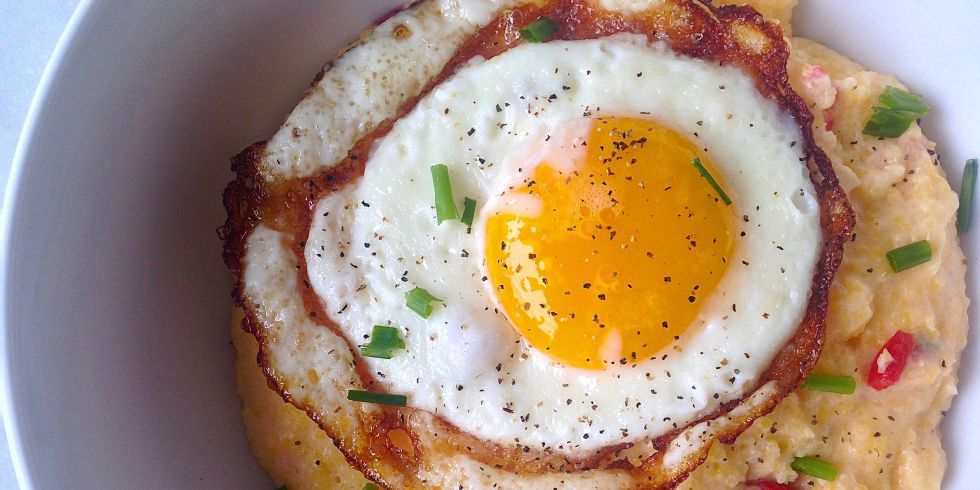fried egg: (323, 53, 843, 444)
